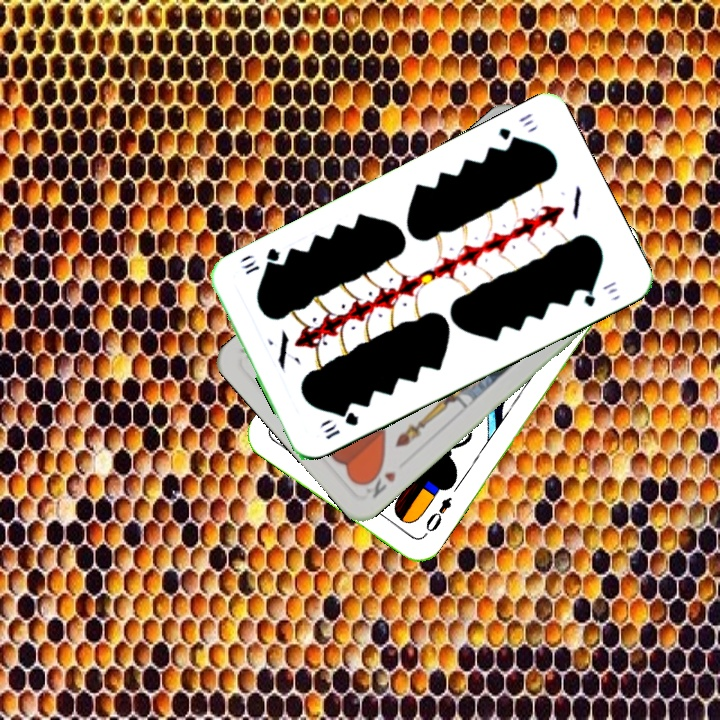EO: (421, 492, 455, 535)
G10: (494, 108, 537, 148), (318, 407, 361, 442)
HK: (358, 462, 399, 501)
